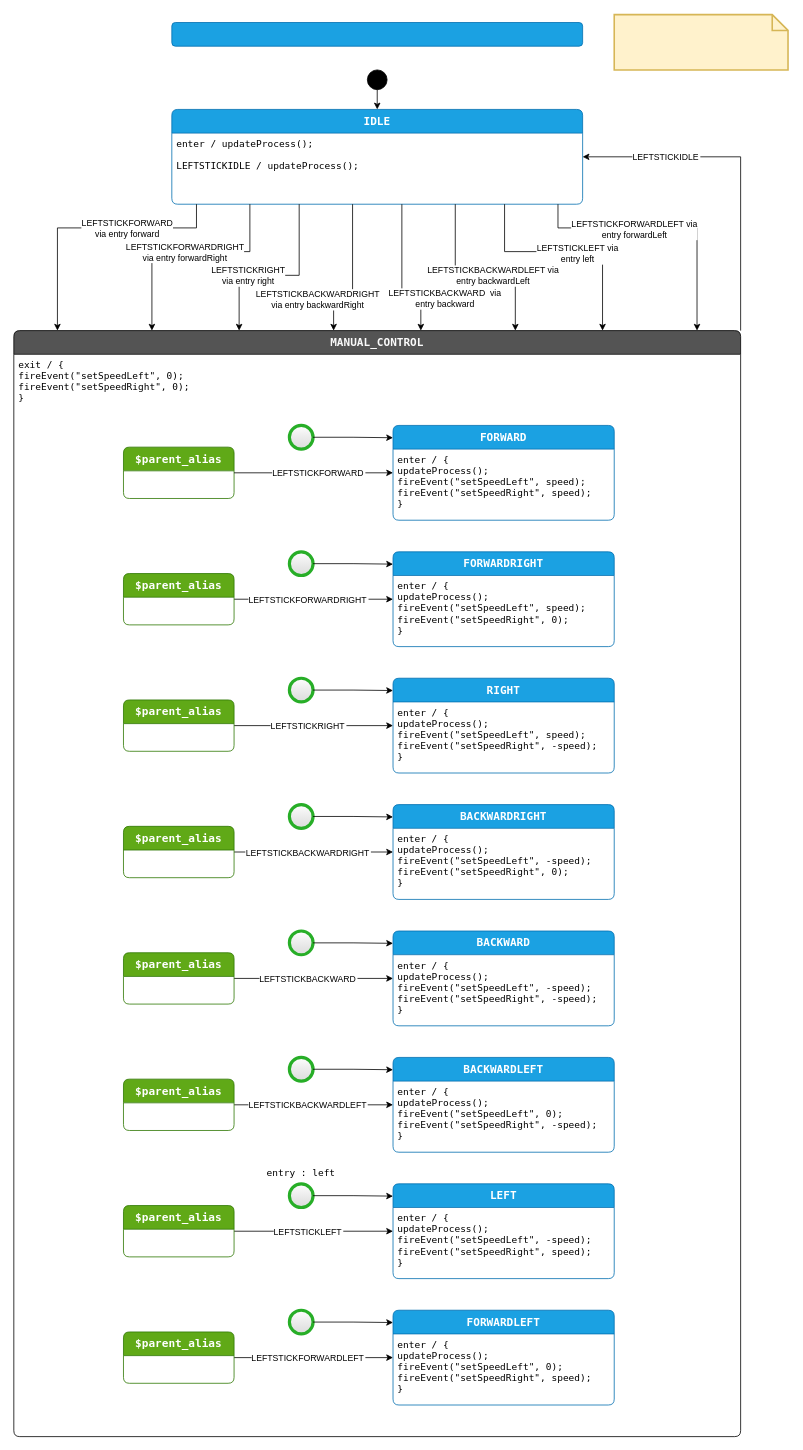
The diagram is 803 pixels wide and 1450 high, and some of its shapes have lost their labels. The shapes that lost their labels are listed below. From the top down, each one's centre as x and y in pixels, then its label:
(x=377, y=34): $STATEMACHINE : {fileName}
(x=700, y=41): Speed is set via dispatchEvent (see Tracks.java)
(x=300, y=436): entry : forward
(x=300, y=563): entry : forwardRight
(x=300, y=689): entry : right
(x=300, y=816): entry : backwardRight
(x=300, y=942): entry : backward
(x=300, y=1068): entry : backwardLeft
(x=300, y=1321): entry : forwardLeft
